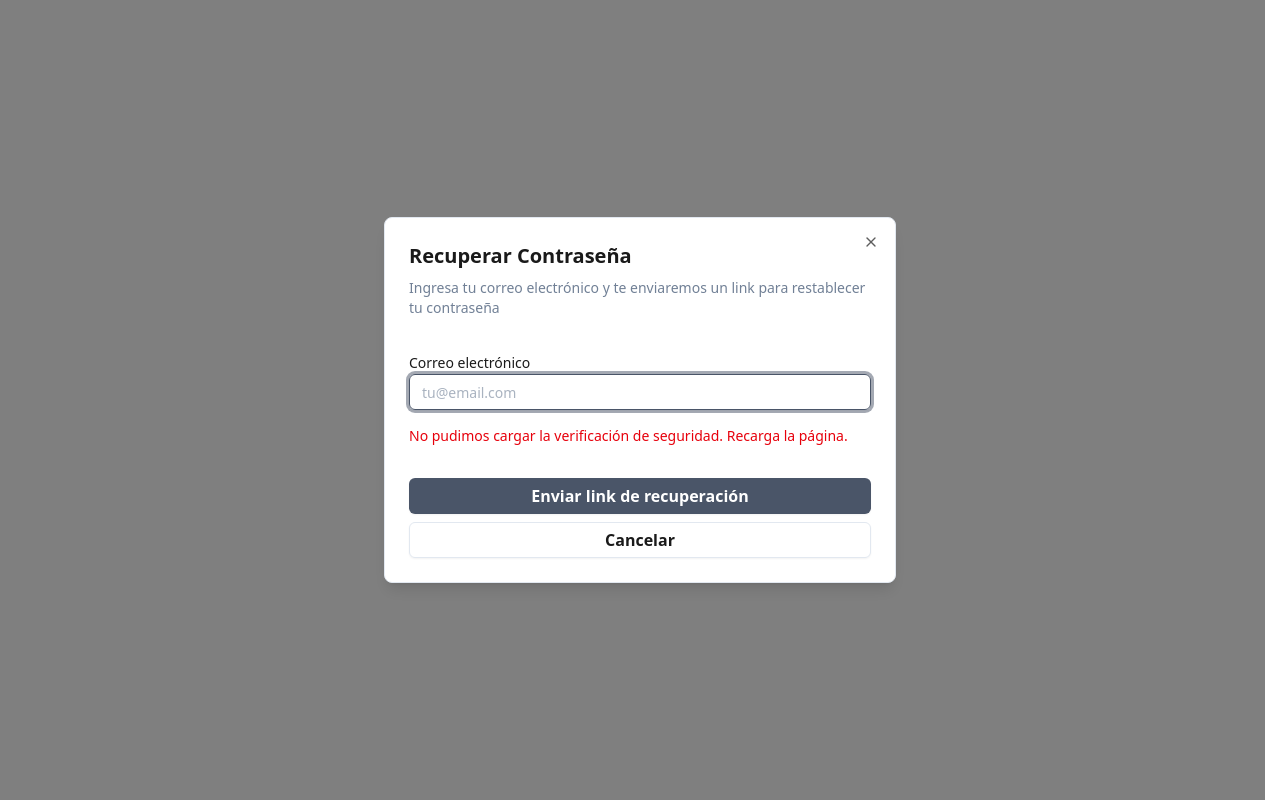
Test case: PasswordRecoveryDialog › leaves the rejection from Supabase readable on the field
The image size is (1280, 800).
Type "duena@tienda.test" into the field labelled "Correo electrónico" at (640, 392), box x1=409 y1=374 x2=871 y2=410
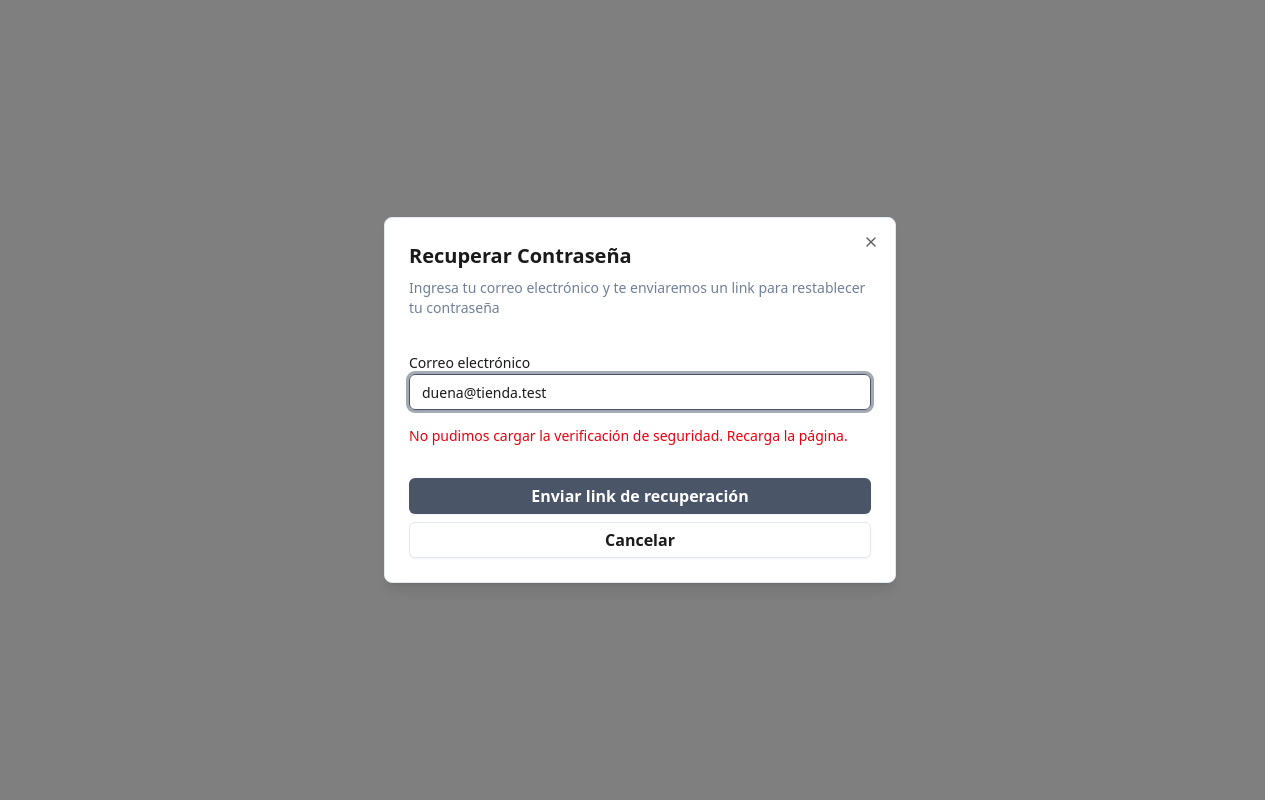
Click the button "Enviar link de recuperación" at (640, 496), box x1=409 y1=478 x2=871 y2=514
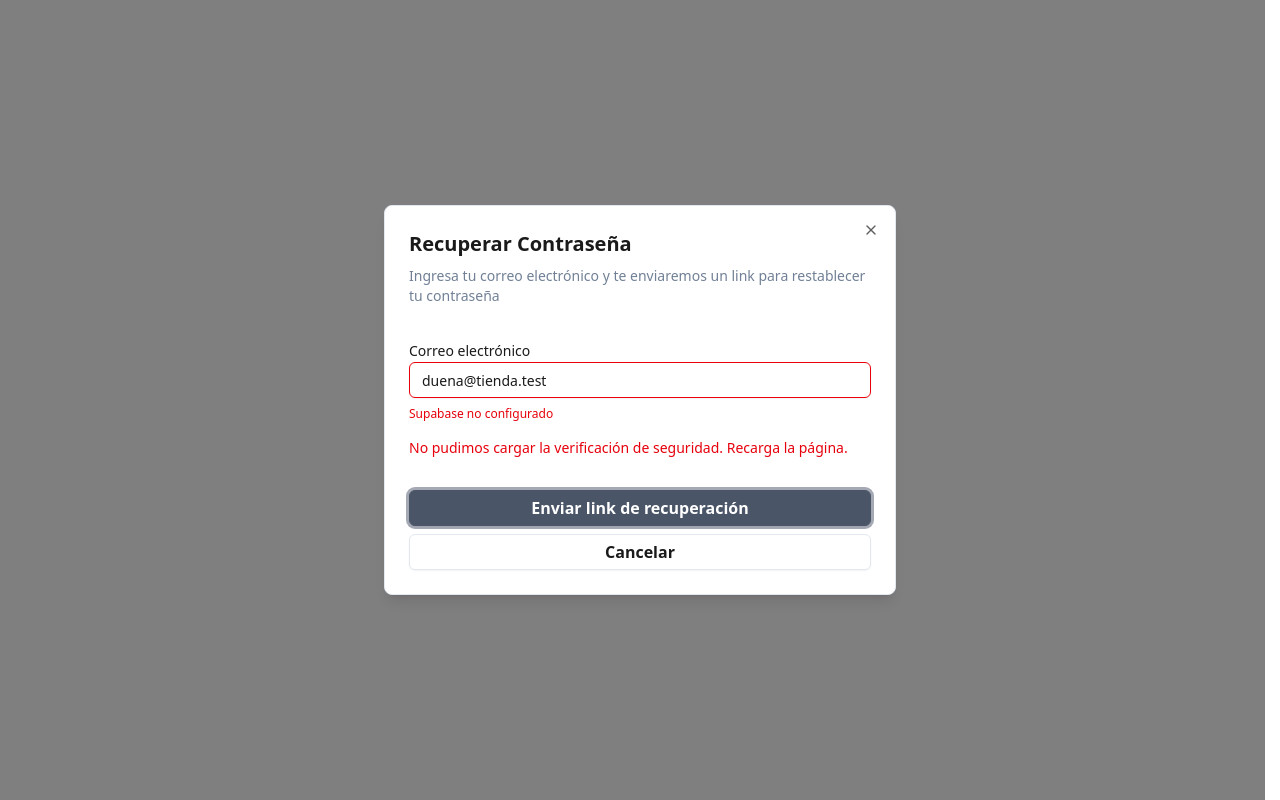
Result: the field labelled "Correo electrónico" is marked as invalid at x1=409 y1=362 x2=871 y2=398
